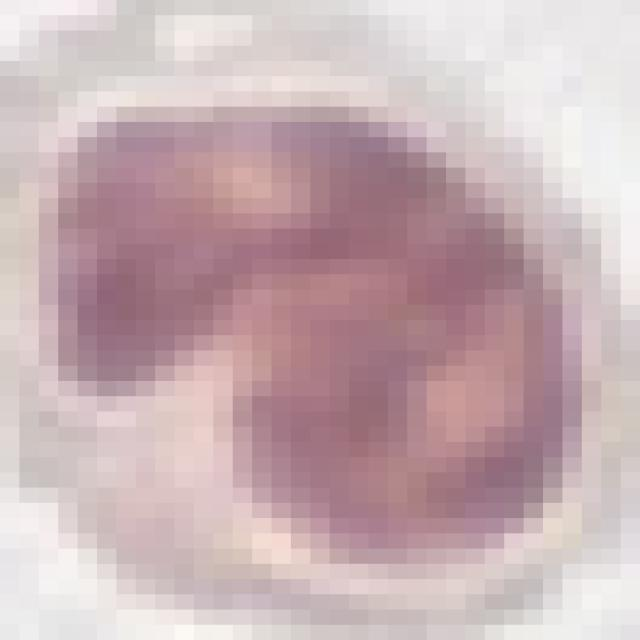cytoplasm: (0, 0, 621, 625)
nucleus: (49, 95, 580, 577)
